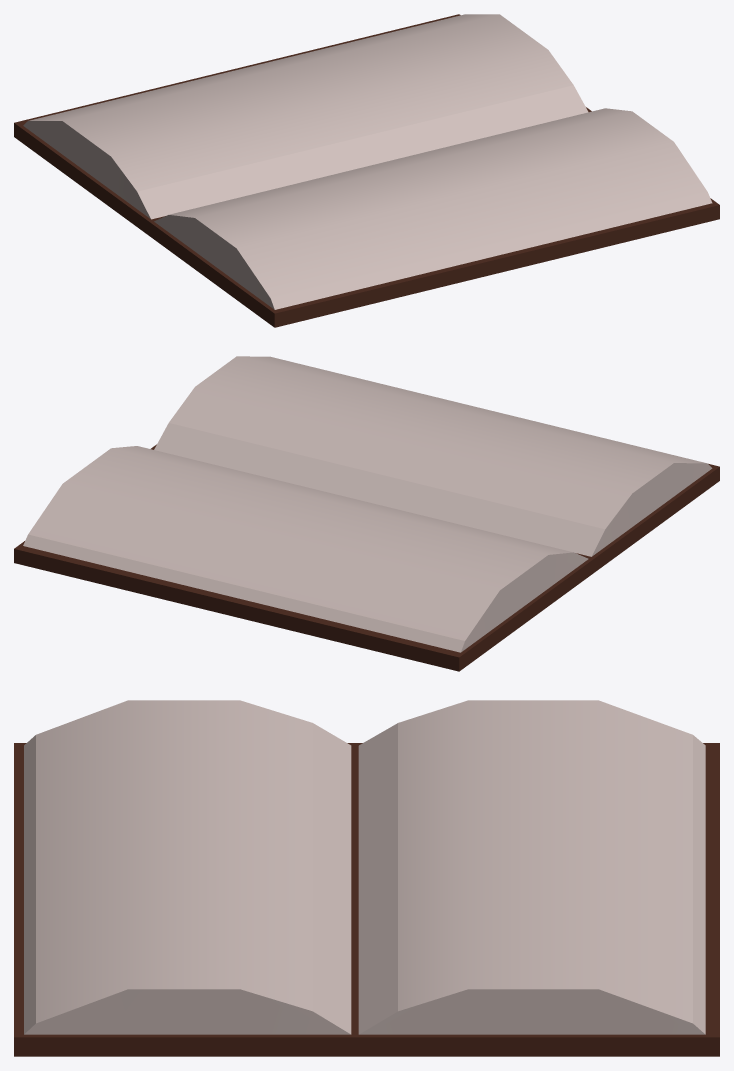
File: OpenBook.fbx
3 renders of one model, top to bottom at view 1: azimuth 30°, elevation 25°; view 2: azimuth 150°, elevation 25°; view 3: azimuth 270°, elevation 25°, orthographic. The views are drawn at different scales.
Parts seen in each view (by area): view 1: pCube6; view 2: pCube6; view 3: pCube6.
Part boxes in pixels (x1,y1,x2,y2): pCube6: (14, 14, 719, 327); pCube6: (14, 356, 719, 671); pCube6: (14, 700, 719, 1056).
Size of the model in its own units: 1.02 by 0.1039 by 1.03.
